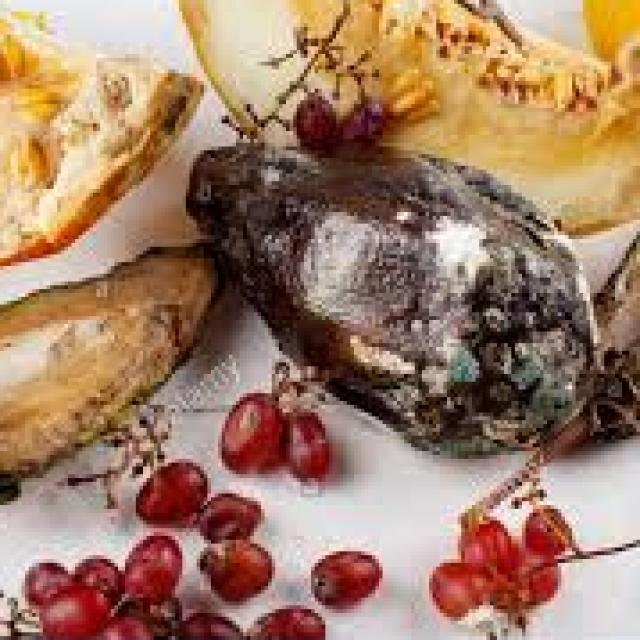inorganic: (7, 13, 619, 628)
